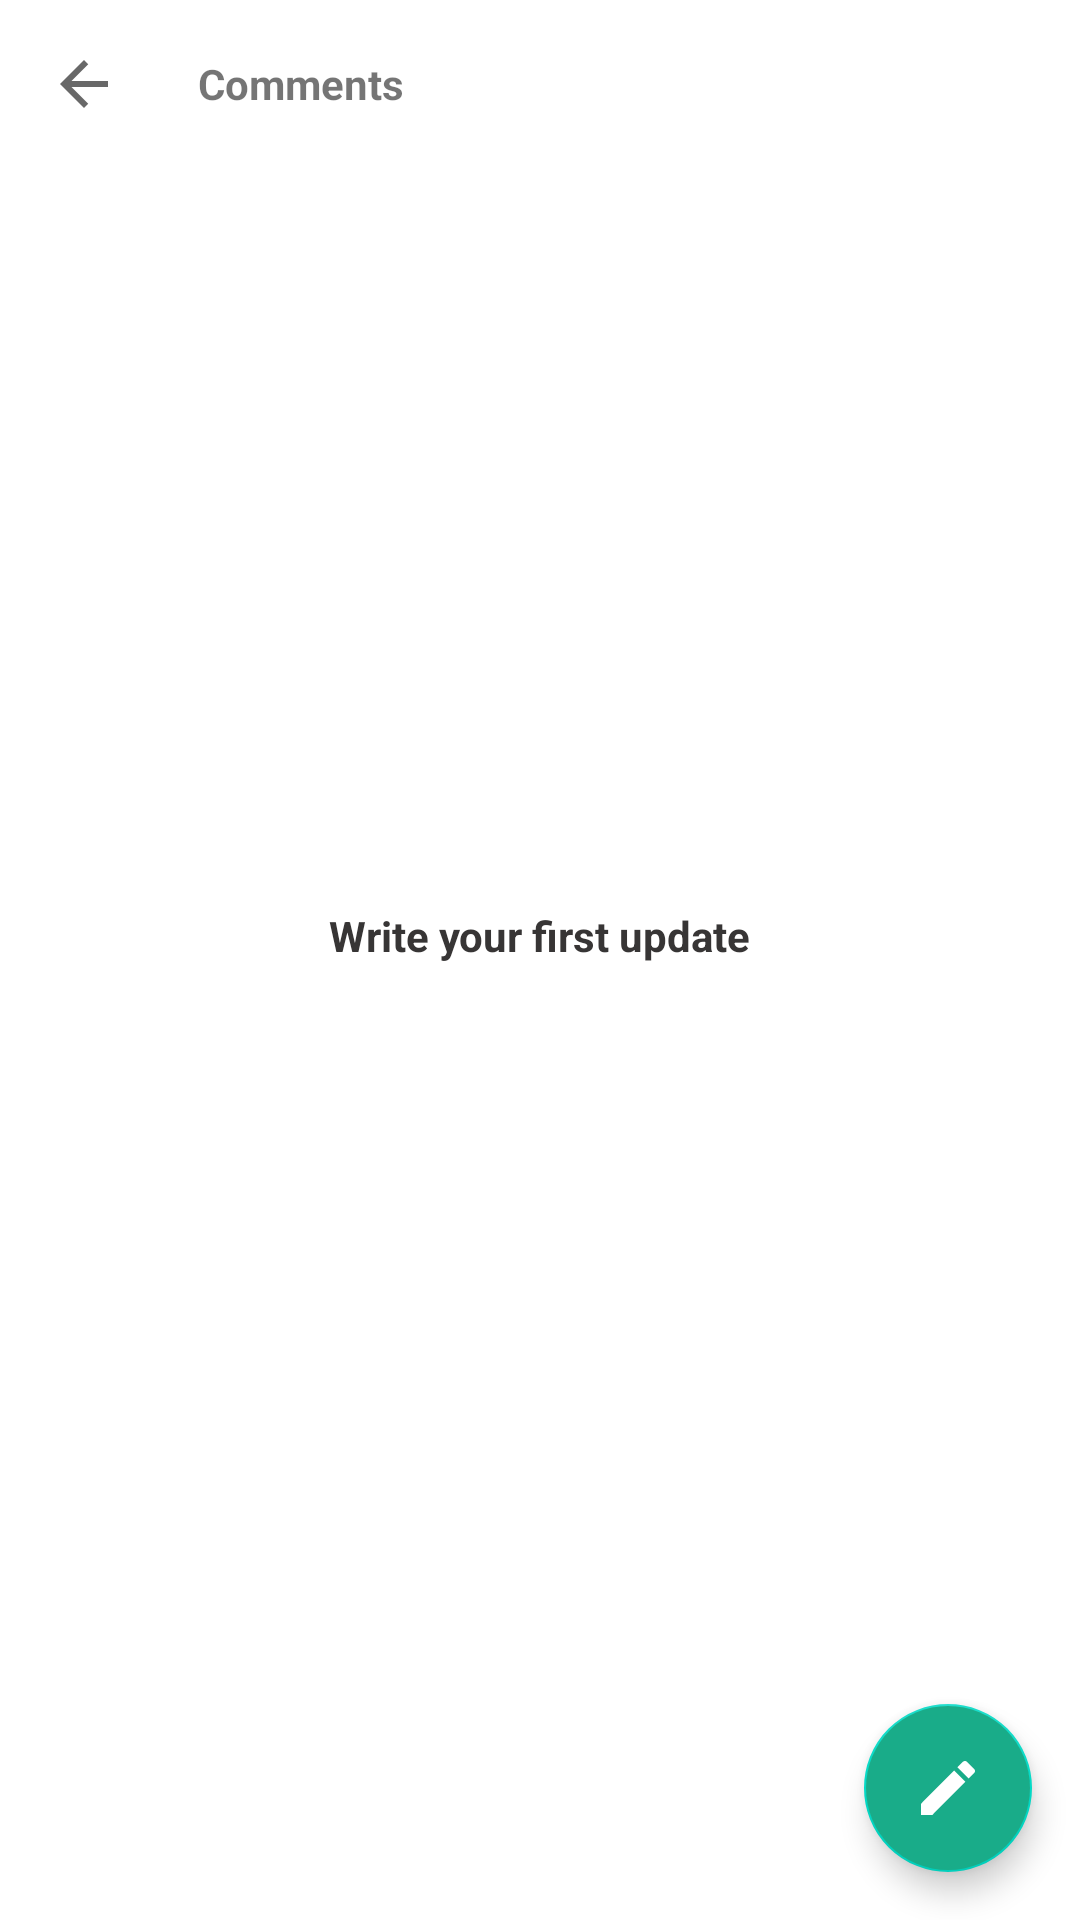

Screen size 1080w x 1920h. Icon name, then its box in pixels as (x1, y1, x2, y2):
arrow: (60, 60, 108, 108)
edit: (864, 1704, 1032, 1872)
